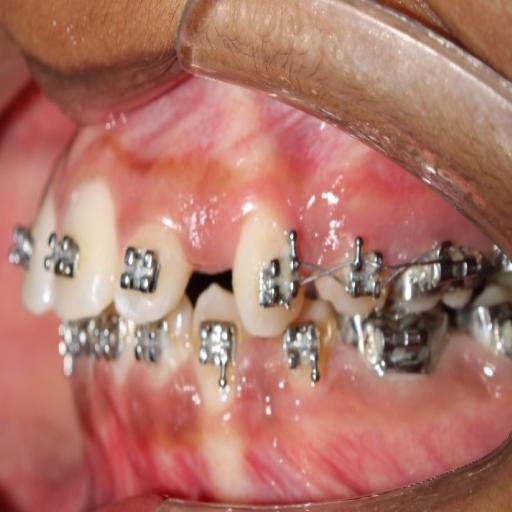correct_brace: (314, 238, 385, 323), (258, 247, 300, 316), (44, 228, 82, 286), (122, 242, 158, 294)
incorrect_brace: (114, 216, 193, 318), (339, 241, 385, 304)
